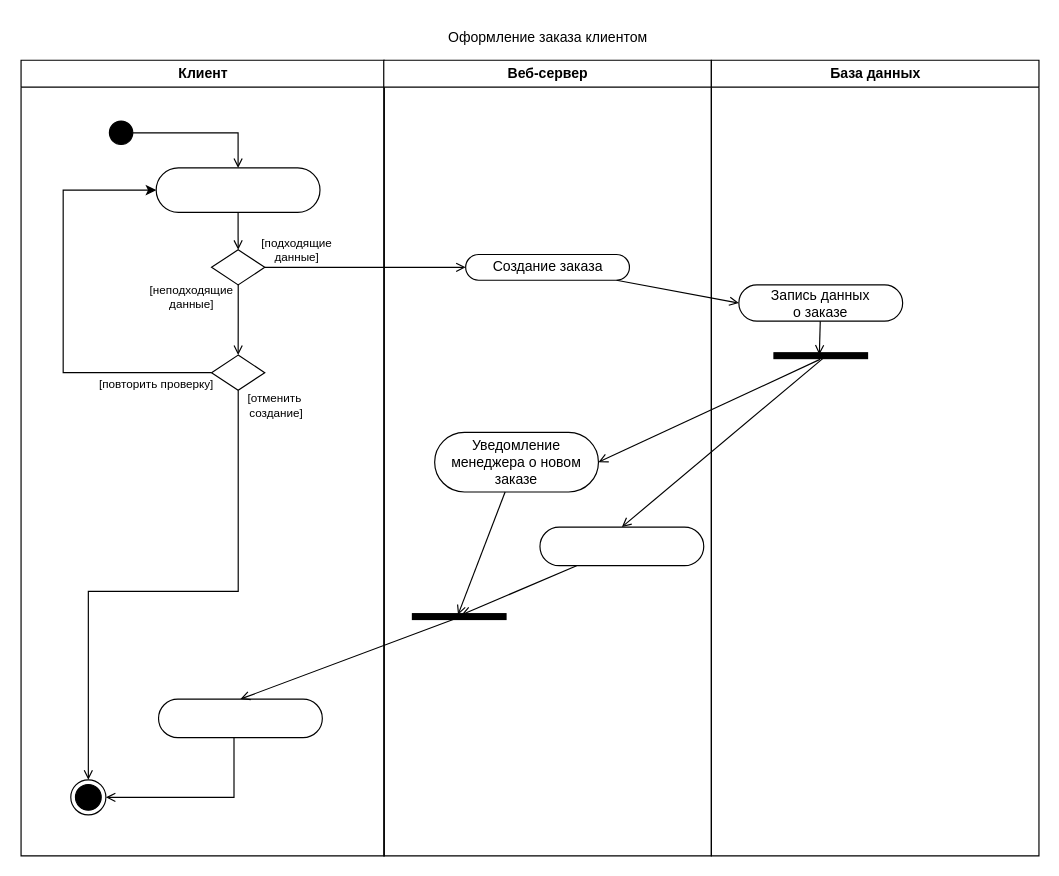
Some shapes in this 1059 by 876 pixel diagram are drawn without their labels. Each missing label, with the centre of its shape:
"Вывод ответа с данными" belongs at [239,718].
"Генерация ответа с данными заказа" belongs at [621,546].
"Проверка данных заказа" belongs at [237,189].
